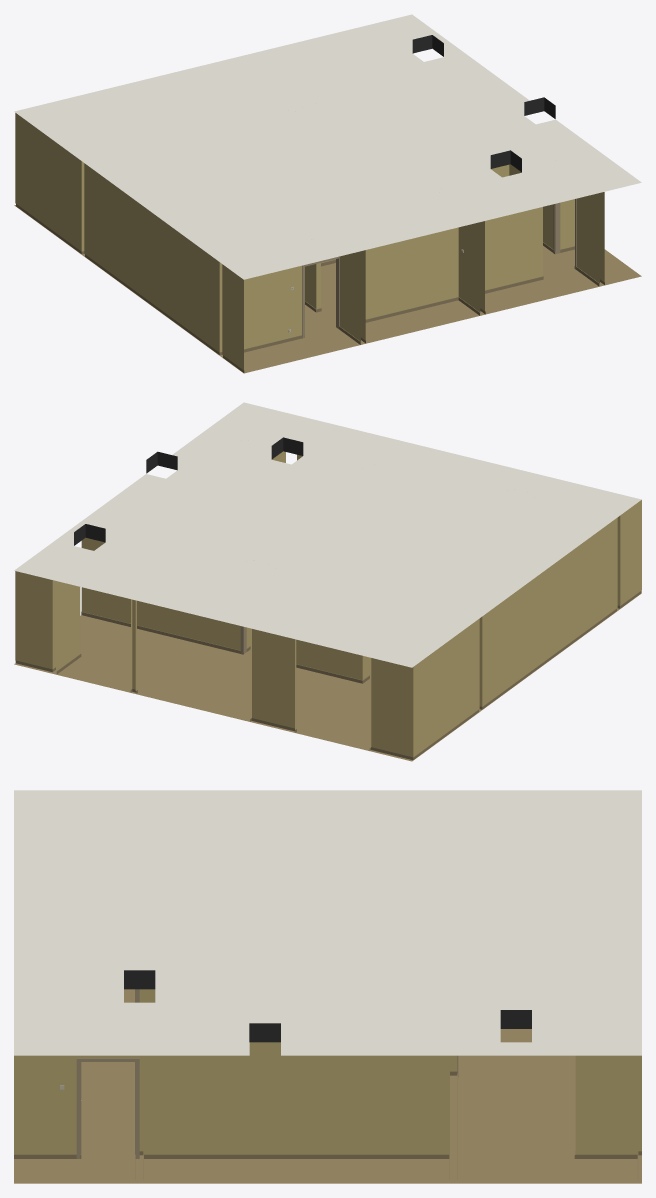
File: chunk_0_2.glb
3 renders of one model, top to bottom at view 1: azimuth 30°, elevation 25°; view 2: azimuth 150°, elevation 25°; view 3: azimuth 270°, elevation 25°, orthographic. The views are drawn at different scales.
Parts seen in each view (by area): view 1: chunk_0_2; view 2: chunk_0_2; view 3: chunk_0_2.
Part boxes in pixels (x1,y1,x2,y2): chunk_0_2: [14, 14, 641, 373]; chunk_0_2: [14, 402, 641, 761]; chunk_0_2: [14, 790, 641, 1183].
Size of the model in its own units: 12.01 by 3.1 by 12.
